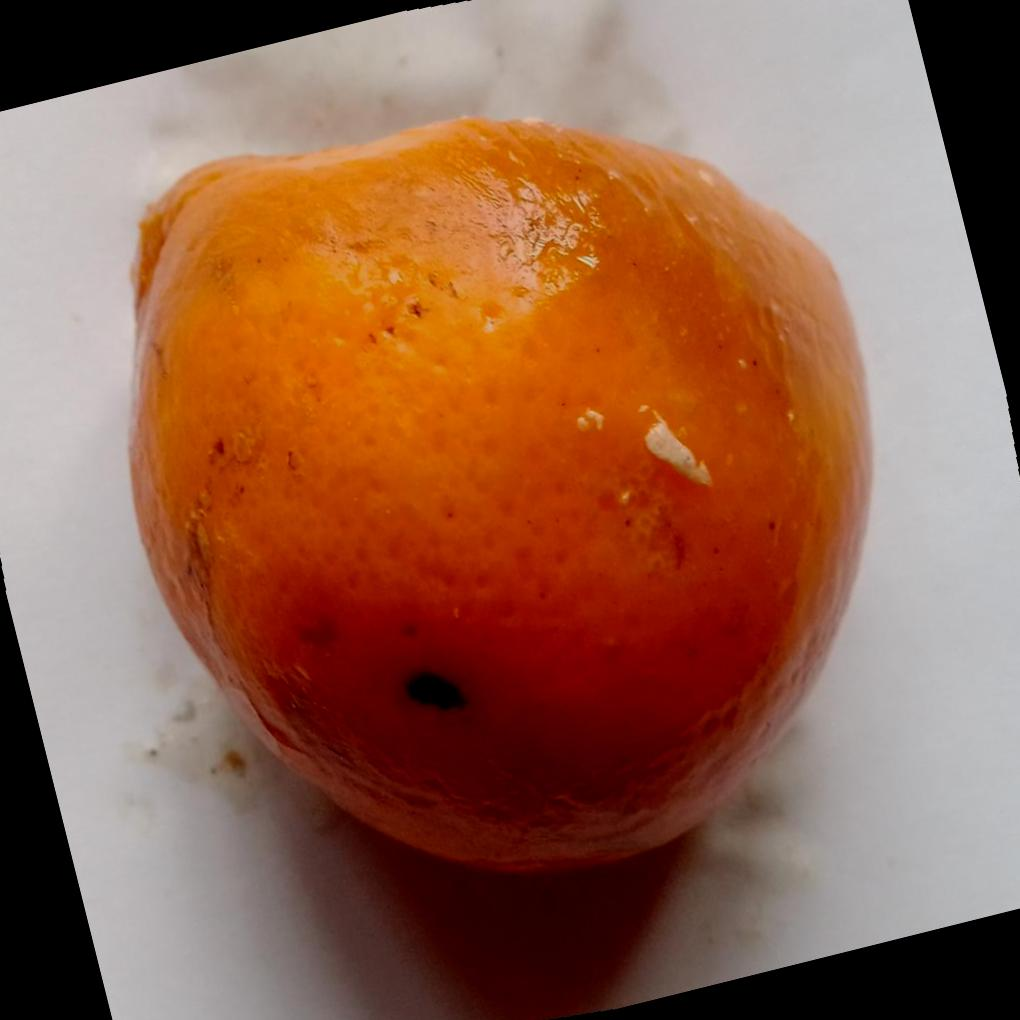FreshOrange: (123, 115, 872, 876)
